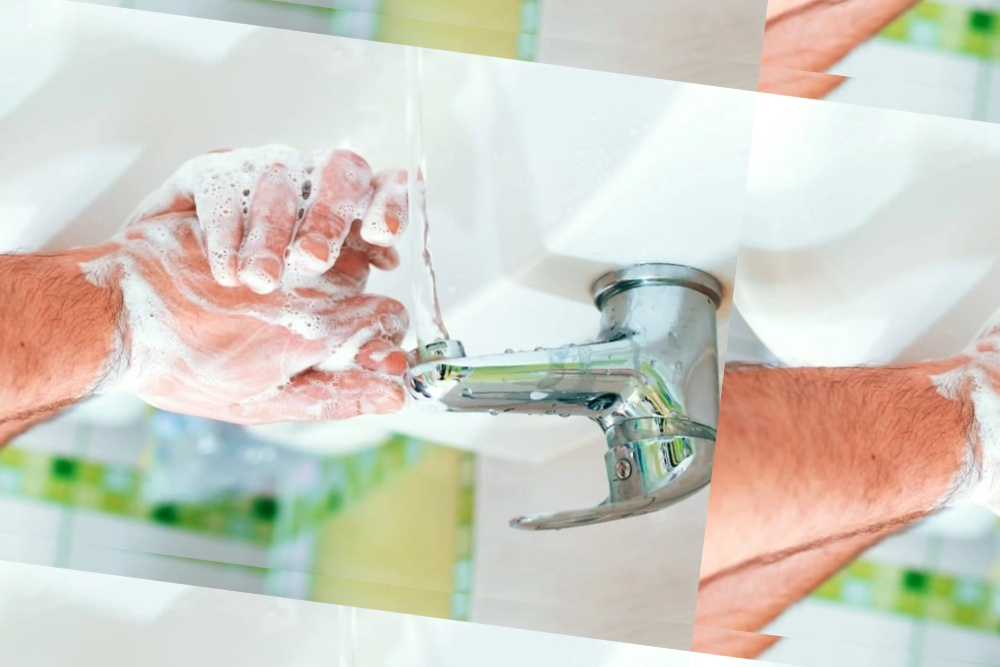washing hand: (95, 57, 726, 563)
